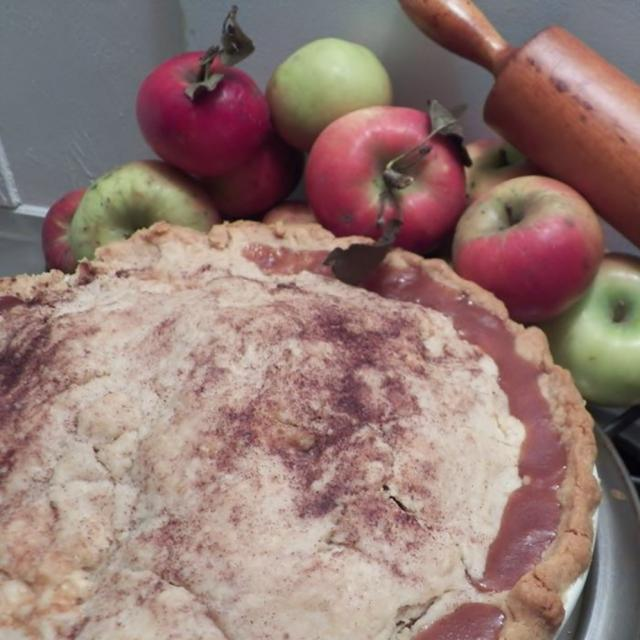Healty Apple: (40, 34, 639, 410), (446, 168, 606, 328), (134, 7, 270, 175)
